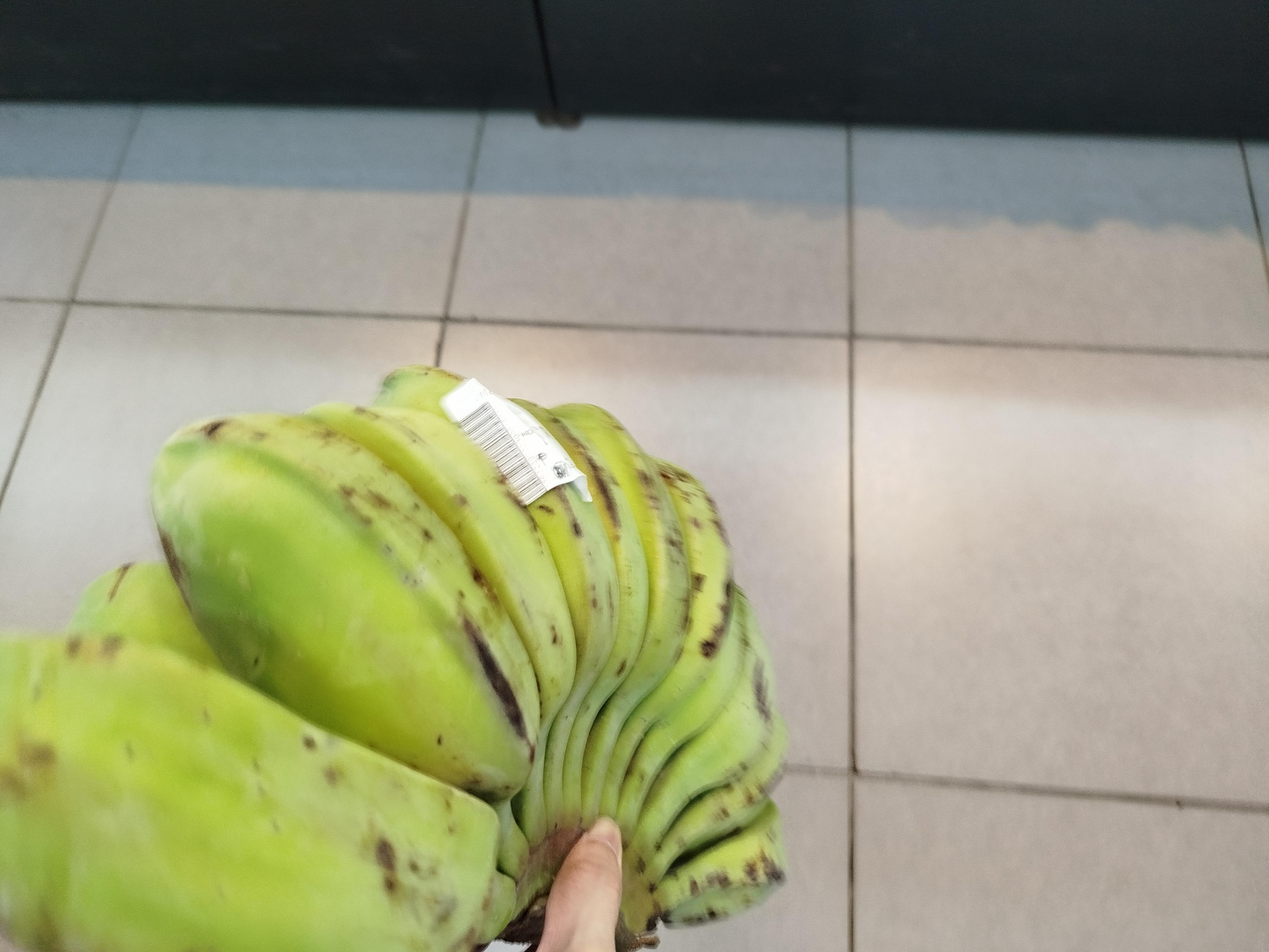underripe: (0, 366, 786, 952)
